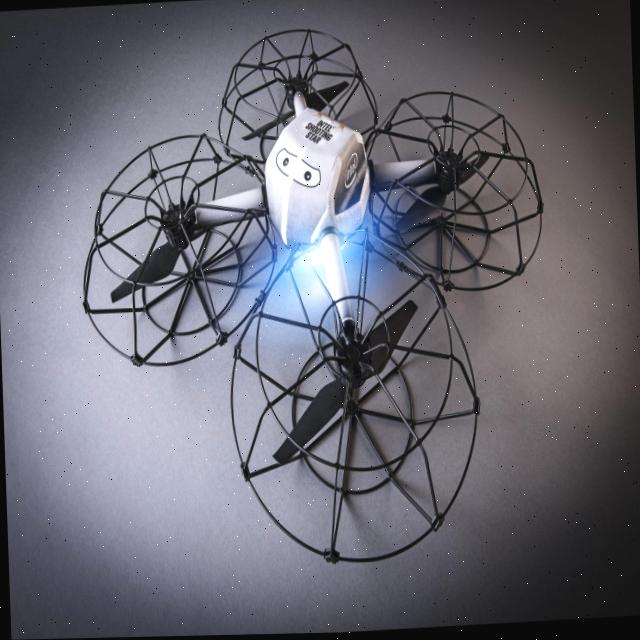drone: (0, 0, 640, 583)
